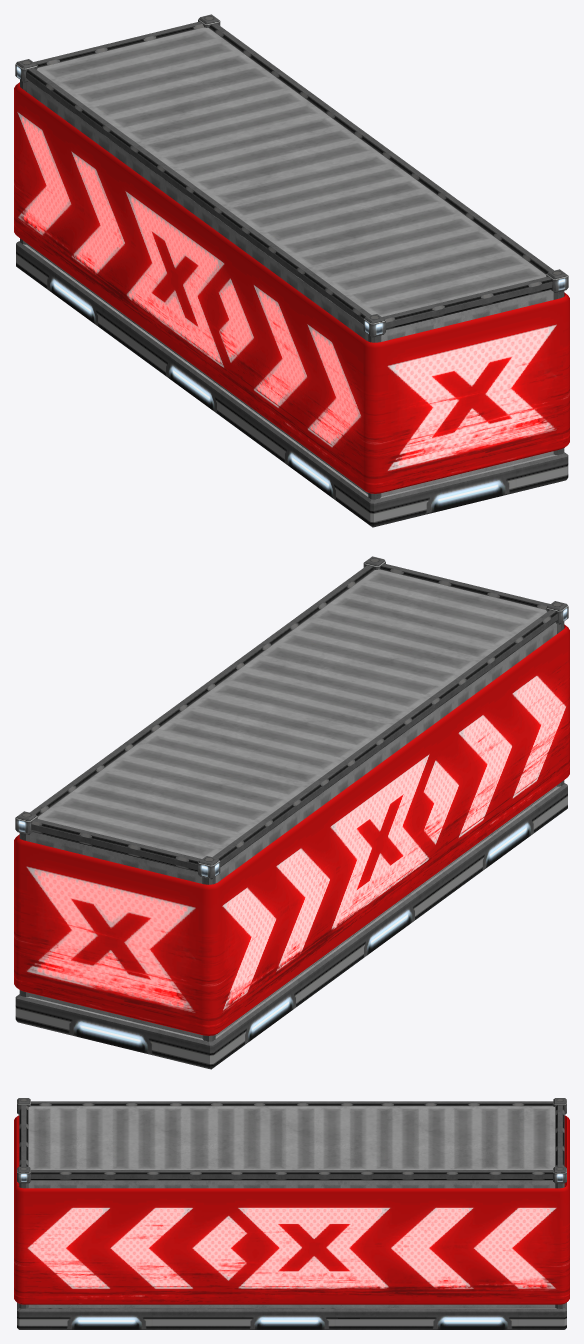
Rendered from obstacle_container_red.fbx.
3 views of the same model, one above another, from view 1: azimuth 30°, elevation 25°; view 2: azimuth 150°, elevation 25°; view 3: azimuth 270°, elevation 25° (orthographic). The views are drawn at different scales.
Visible parts, largest first — view 1: frame, cover; view 2: frame, cover; view 3: cover, frame.
Part boxes in pixels (x1,y1,x2,y2): frame: [15, 14, 568, 527]; cover: [14, 82, 569, 493]; frame: [15, 556, 568, 1069]; cover: [14, 624, 569, 1035]; cover: [14, 1115, 569, 1304]; frame: [17, 1098, 566, 1329].
Bounding box in the file's own units: 331 × 319 × 1011.
